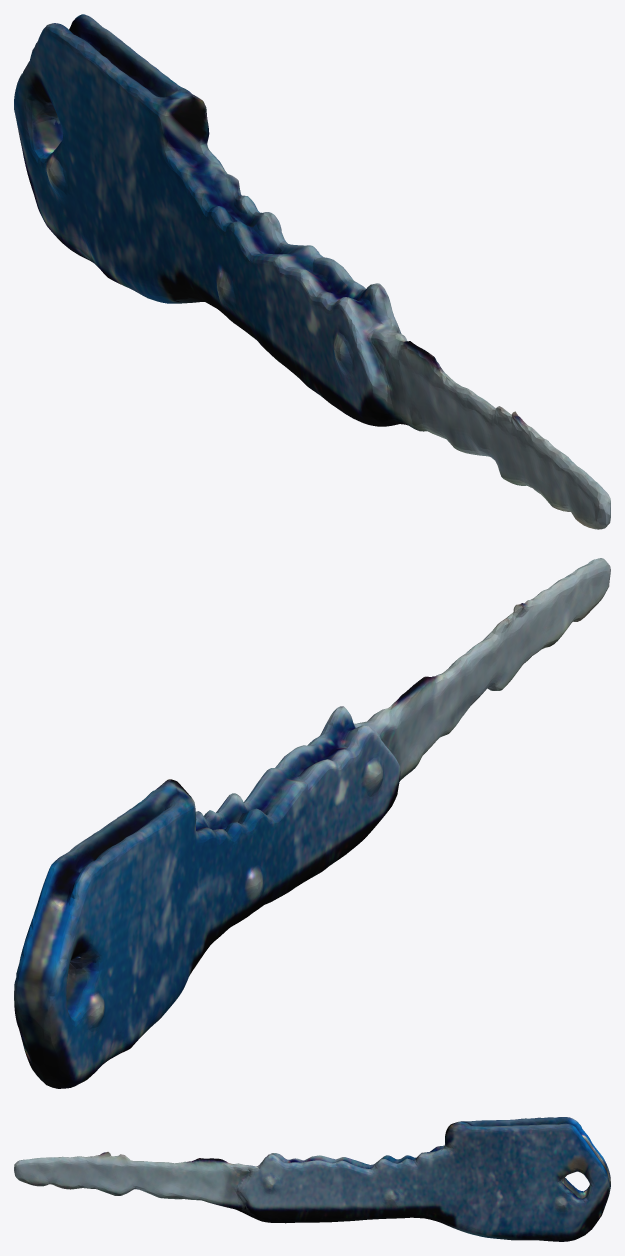
The model's file is scan_align.obj.
3 renders of one model, top to bottom at view 1: azimuth 30°, elevation 25°; view 2: azimuth 150°, elevation 25°; view 3: azimuth 270°, elevation 25°, orthographic. The views are drawn at different scales.
Bounding box in the file's own units: 0.0066 × 0.0254 × 0.1162.
1 material, 1 textured.
